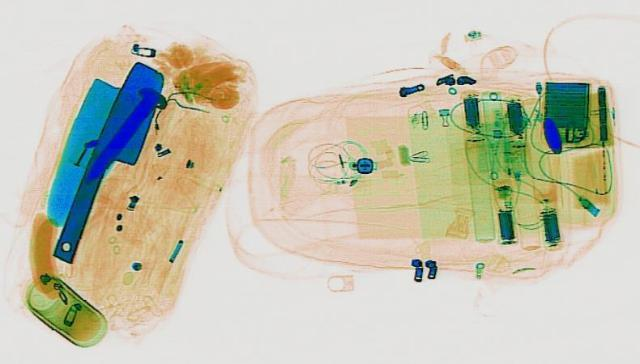Knife: (40, 60, 178, 263)
